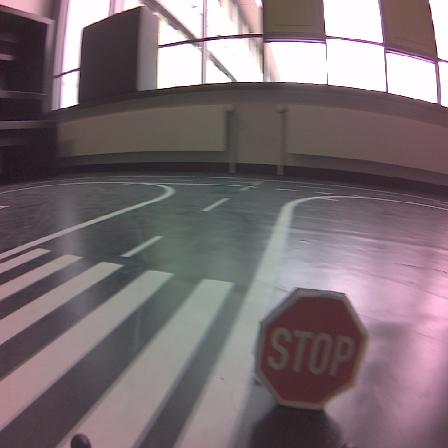STOP: (256, 289, 366, 408)
